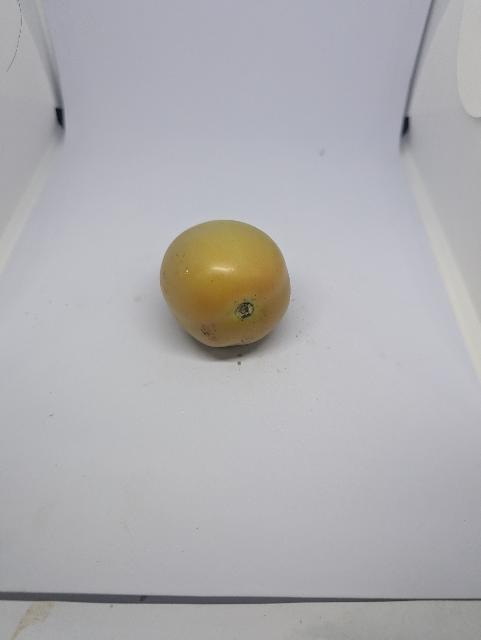turning: (160, 217, 293, 351)
